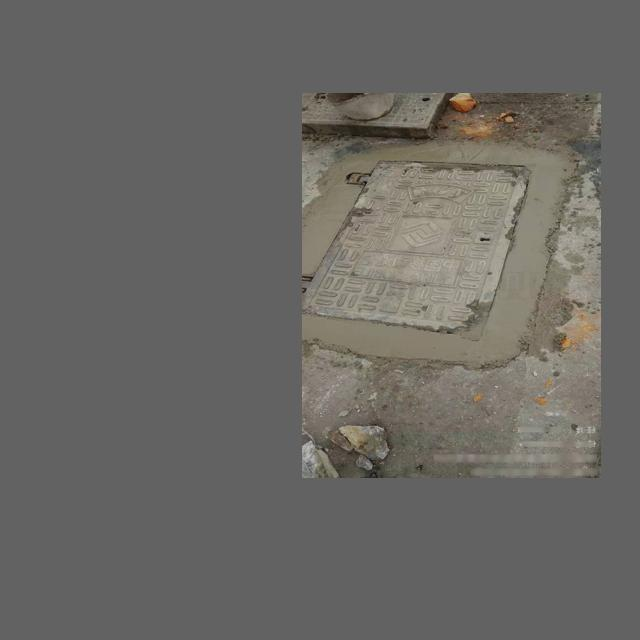good: (302, 160, 533, 340)
